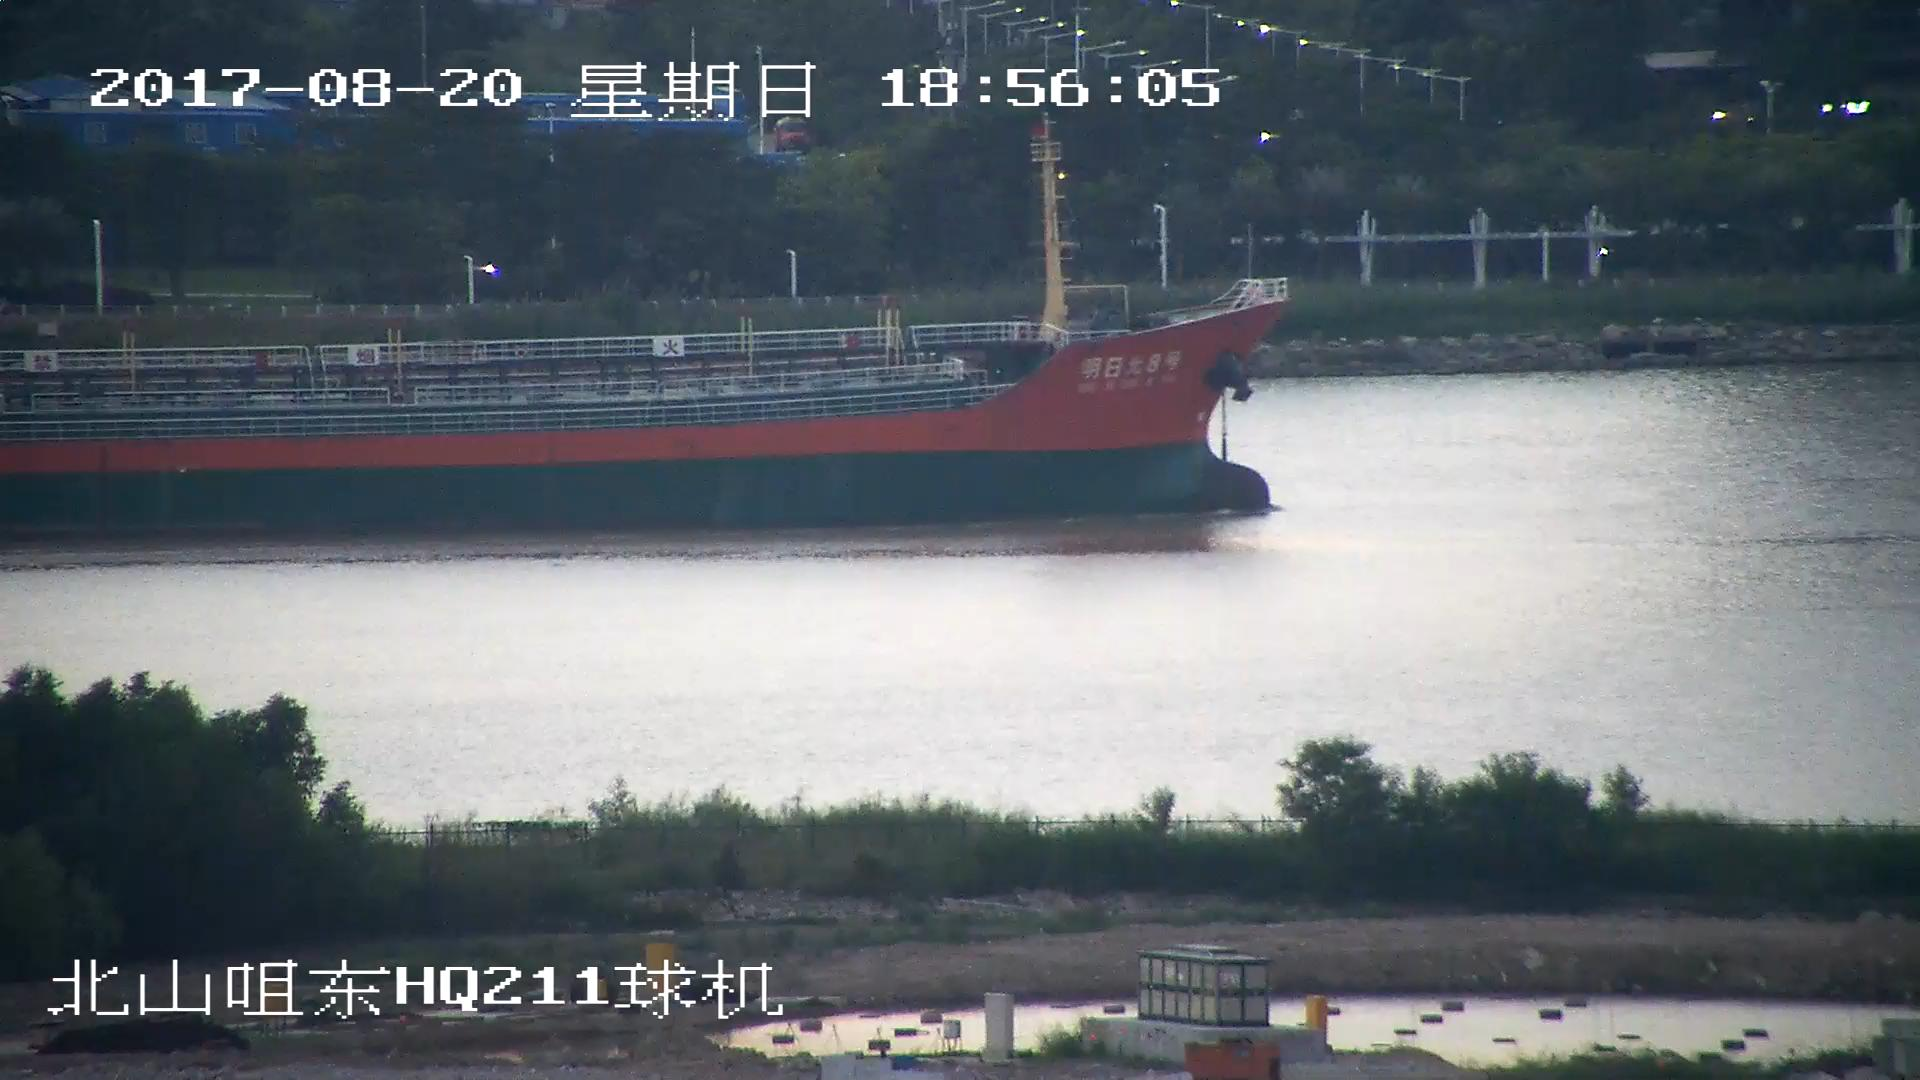general cargo ship: (1, 129, 1289, 532)
